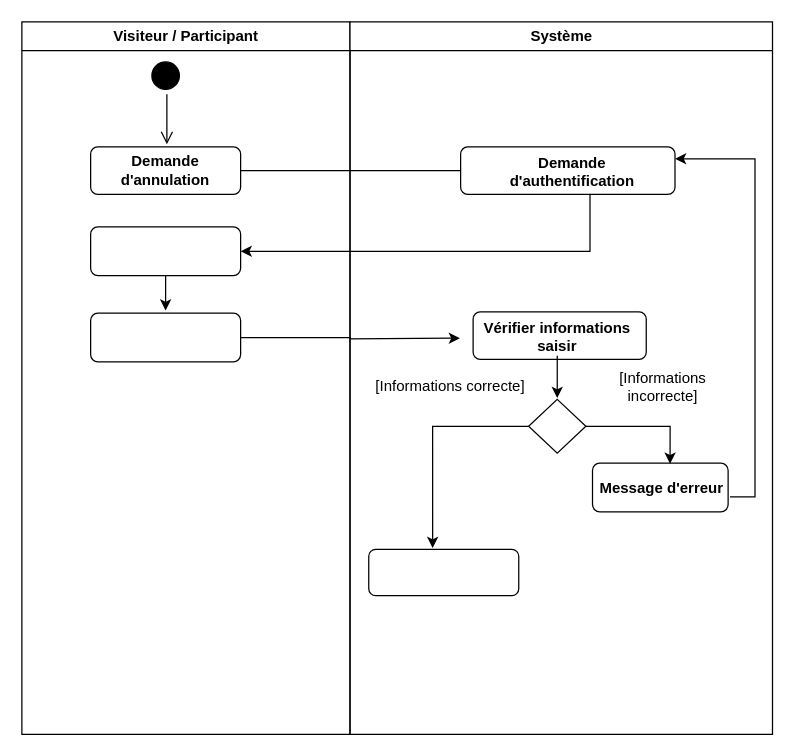
Some shapes in this 795 by 756 pixel diagram are drawn without their labels. The shapes that lost their labels are listed below. From the top down, each one's centre as x and y in pixels, then its label:
At point 165,251: "Remplir le formulaire".
At point 165,337: "Soumettre le formulaire".
At point 443,572: "Envoyer les données au SGDB".
